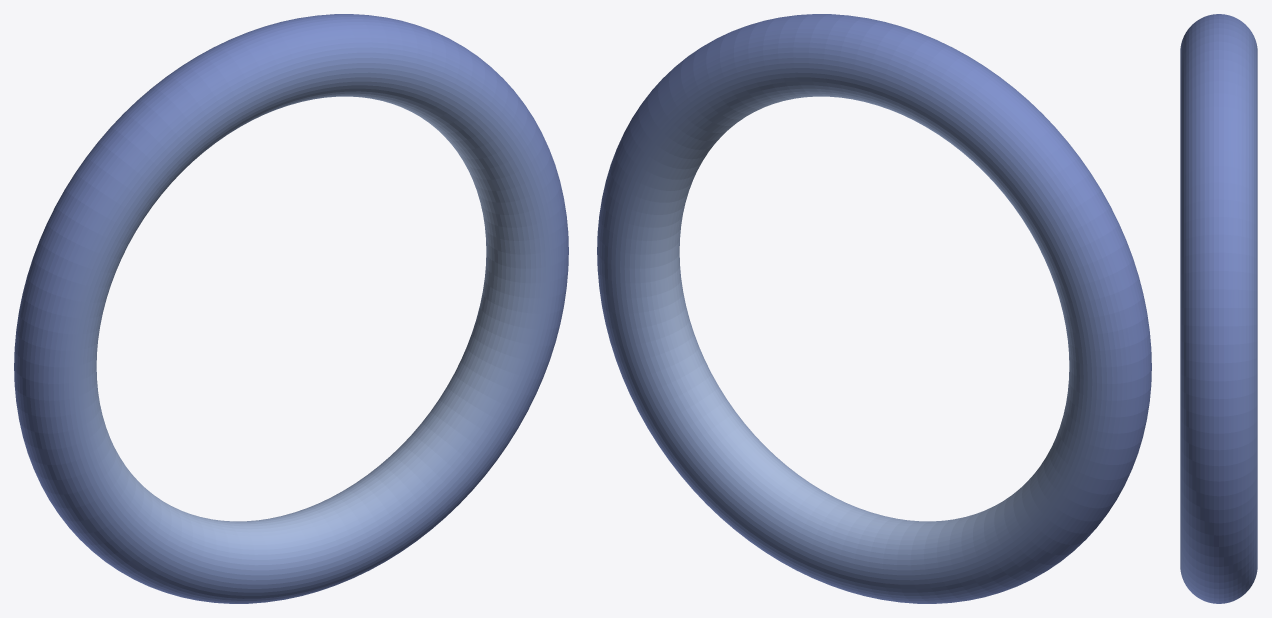
The picture shows the model from 3 angles, left to right: view 1: azimuth 30°, elevation 25°; view 2: azimuth 150°, elevation 25°; view 3: azimuth 270°, elevation 25°; orthographic projection. The views are drawn at different scales.
Parts seen in each view (by area): view 1: world; view 2: world; view 3: world.
Part boxes in pixels (x1,y1,x2,y2): world: [14, 14, 568, 603]; world: [597, 14, 1151, 603]; world: [1180, 14, 1257, 603].
Size of the model in its own units: 25.33 by 25.33 by 3.33.
